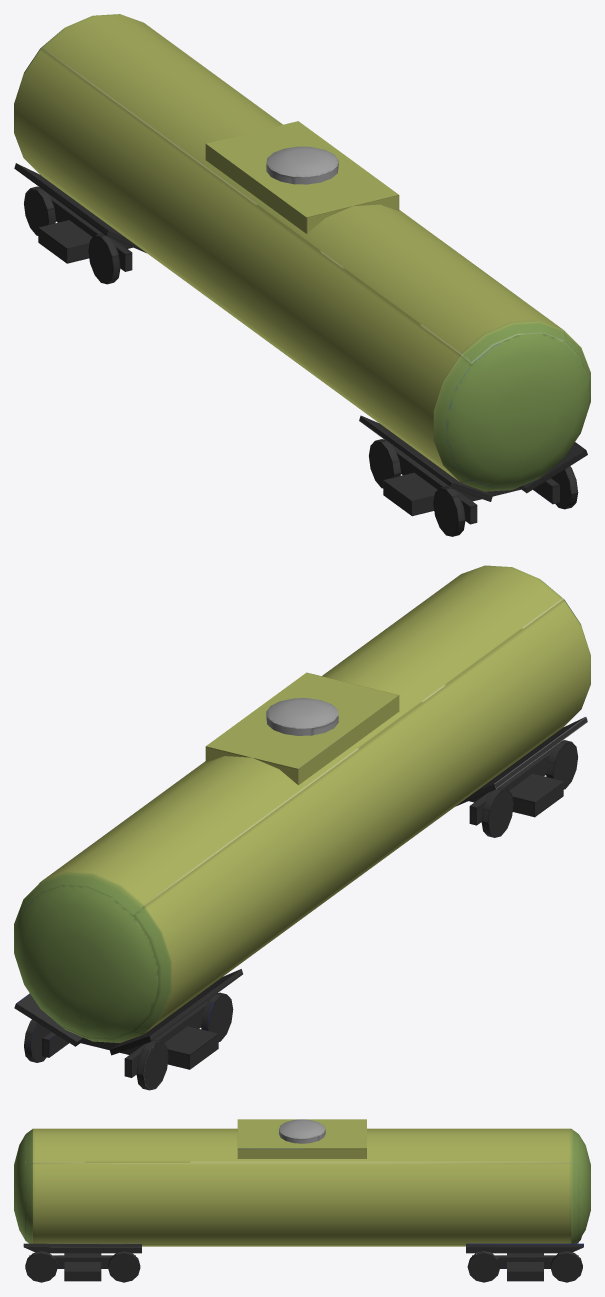
The picture shows the model from 3 angles, top to bottom: view 1: azimuth 30°, elevation 25°; view 2: azimuth 150°, elevation 25°; view 3: azimuth 270°, elevation 25°; orthographic projection. The views are drawn at different scales.
Visible parts, largest first — view 1: wagon-cylinder; view 2: wagon-cylinder; view 3: wagon-cylinder.
Part boxes in pixels (bbox=[...]): wagon-cylinder: bbox=[14, 14, 590, 536]; wagon-cylinder: bbox=[14, 565, 590, 1090]; wagon-cylinder: bbox=[14, 1119, 590, 1282].
Bounding box in the file's own units: 78.78 × 103 × 390.
